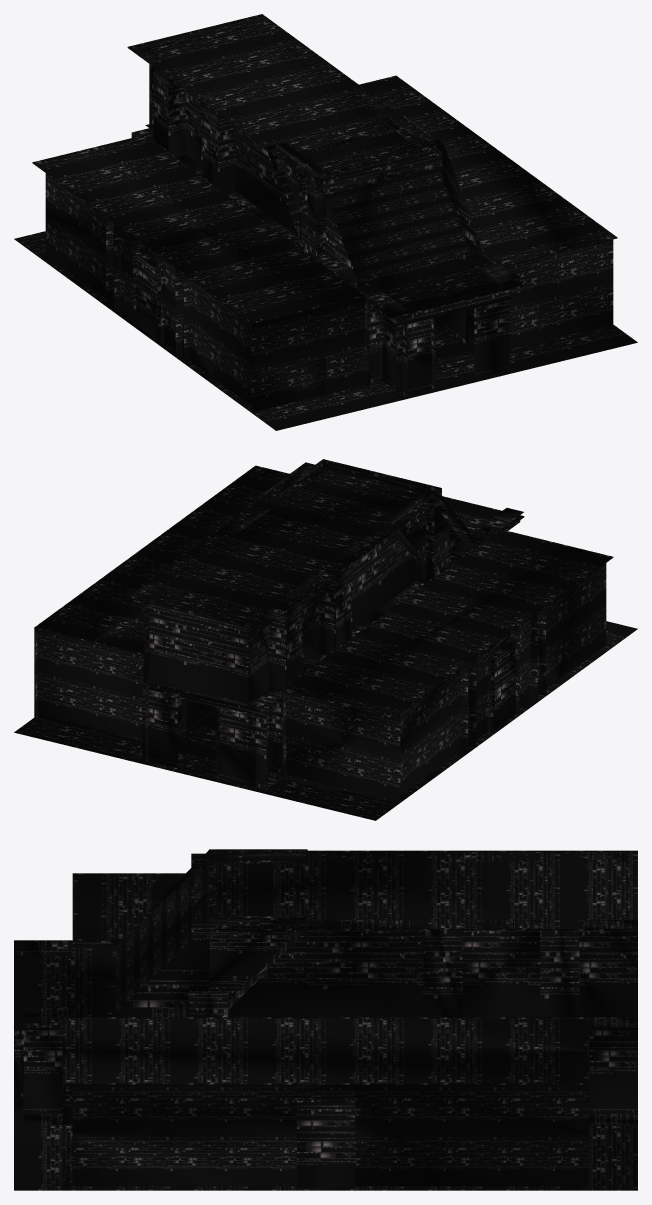
Rendered from room2scps_opt.obj.
3 renders of one model, top to bottom at view 1: azimuth 30°, elevation 25°; view 2: azimuth 150°, elevation 25°; view 3: azimuth 270°, elevation 25°, orthographic. The views are drawn at different scales.
Size of the model in its own units: 81.6 by 35.75 by 102.
14 materials, 14 textured.
